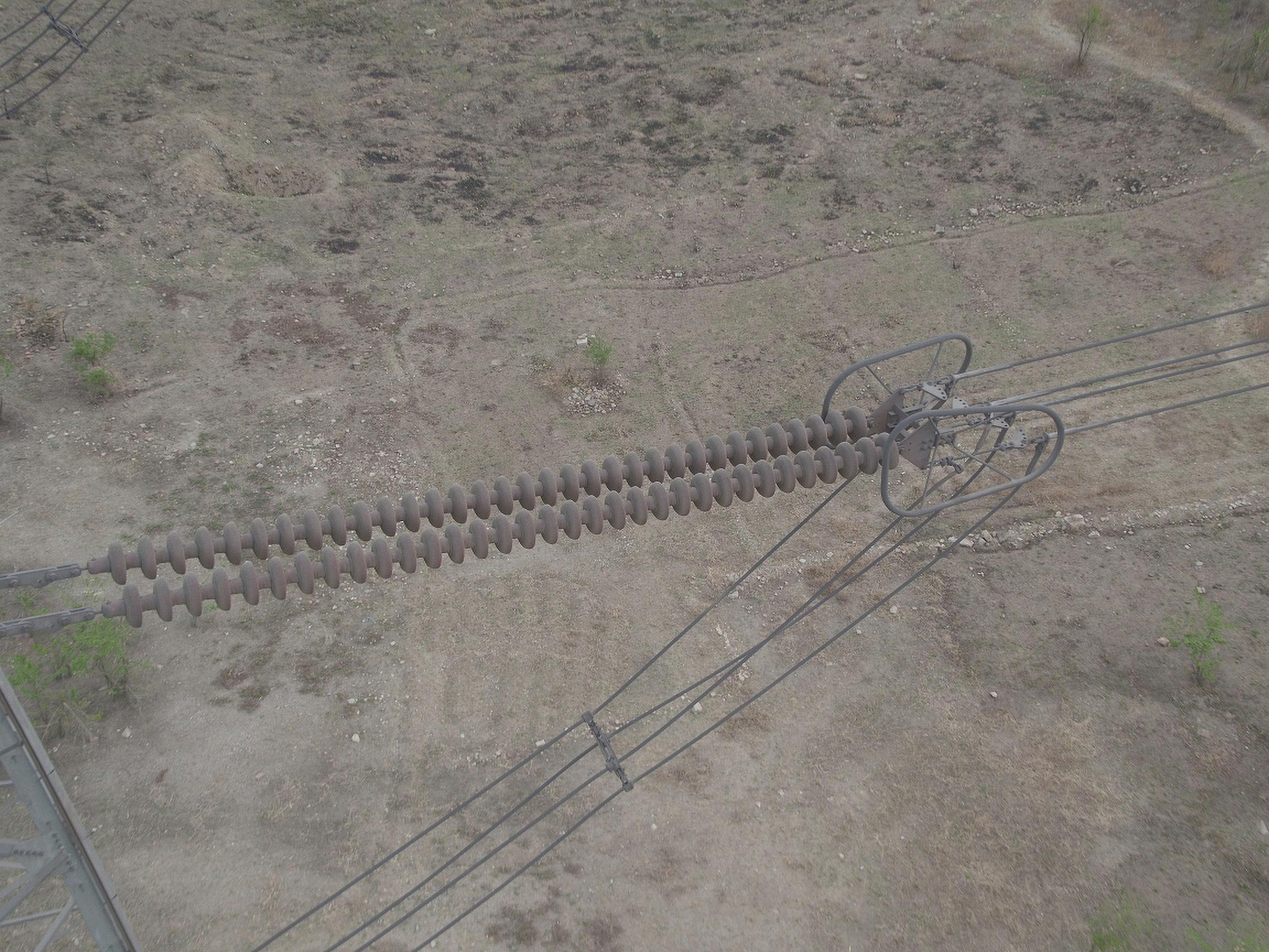insulator: (105, 404, 904, 632)
